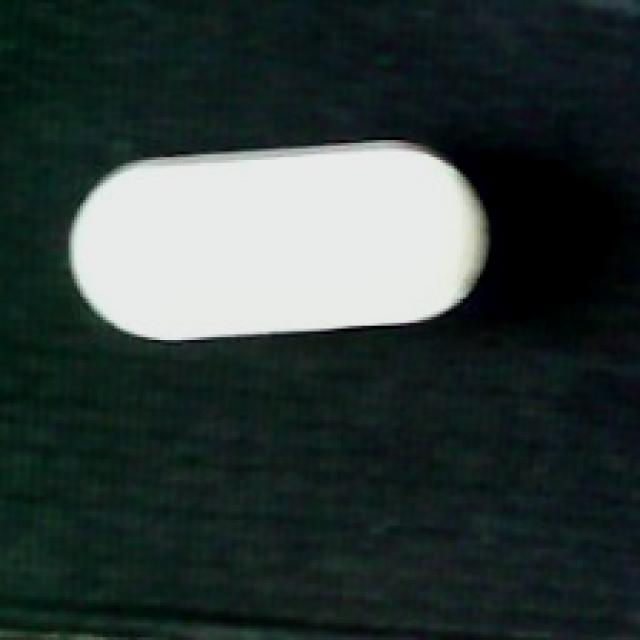no-defect: (66, 137, 491, 346)
